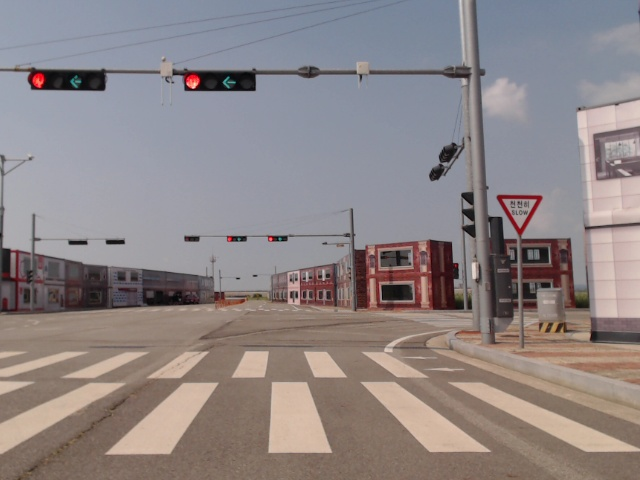left_green_4: (30, 70, 107, 91), (184, 72, 255, 91)
